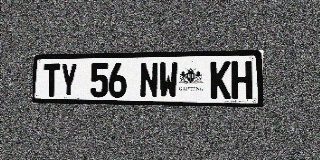5: (90, 63, 108, 97)
6: (108, 63, 127, 98)
H: (231, 61, 252, 99)
K: (210, 61, 231, 99)
N: (140, 62, 158, 98)
T: (43, 64, 60, 97)
W: (159, 62, 178, 98)
Y: (60, 63, 77, 97)
